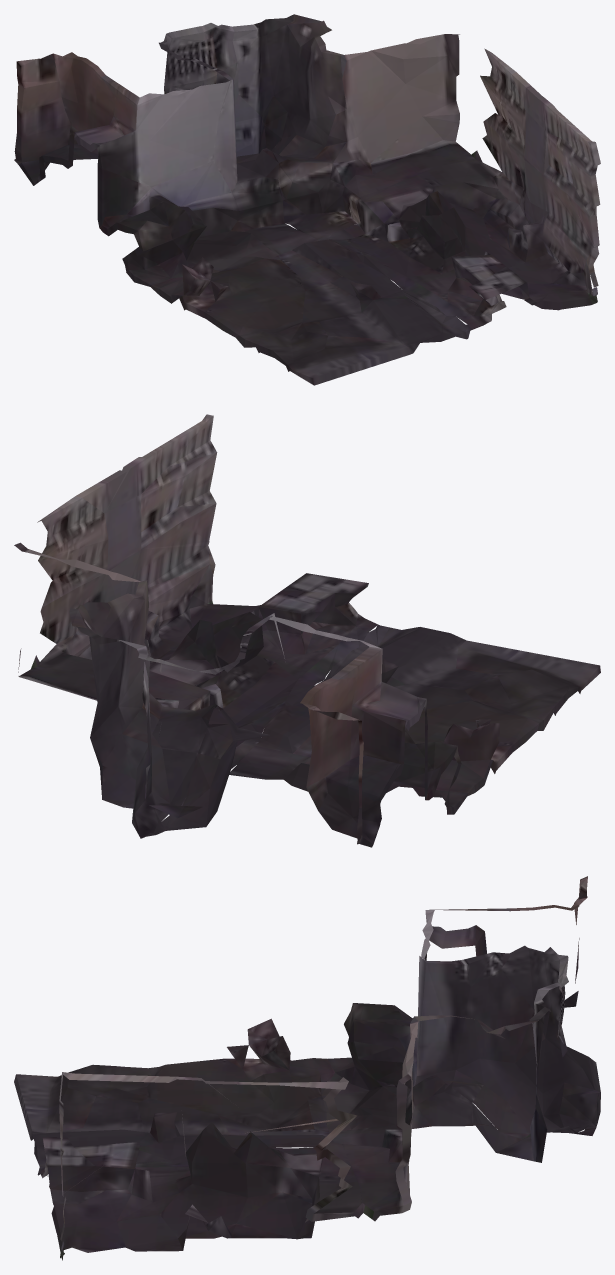
3 renders of one model, top to bottom at view 1: azimuth 30°, elevation 25°; view 2: azimuth 150°, elevation 25°; view 3: azimuth 270°, elevation 25°, orthographic. The views are drawn at different scales.
Parts seen in each view (by area): view 1: Mesh_0; view 2: Mesh_0; view 3: Mesh_0.
Boxes of the visible parts, x1,y1,x2,y2 form: Mesh_0: [14, 14, 600, 385]; Mesh_0: [14, 414, 600, 847]; Mesh_0: [14, 876, 600, 1260].
Size of the model in its own units: 31.62 by 13.5 by 37.56.
1 material, 1 textured.
